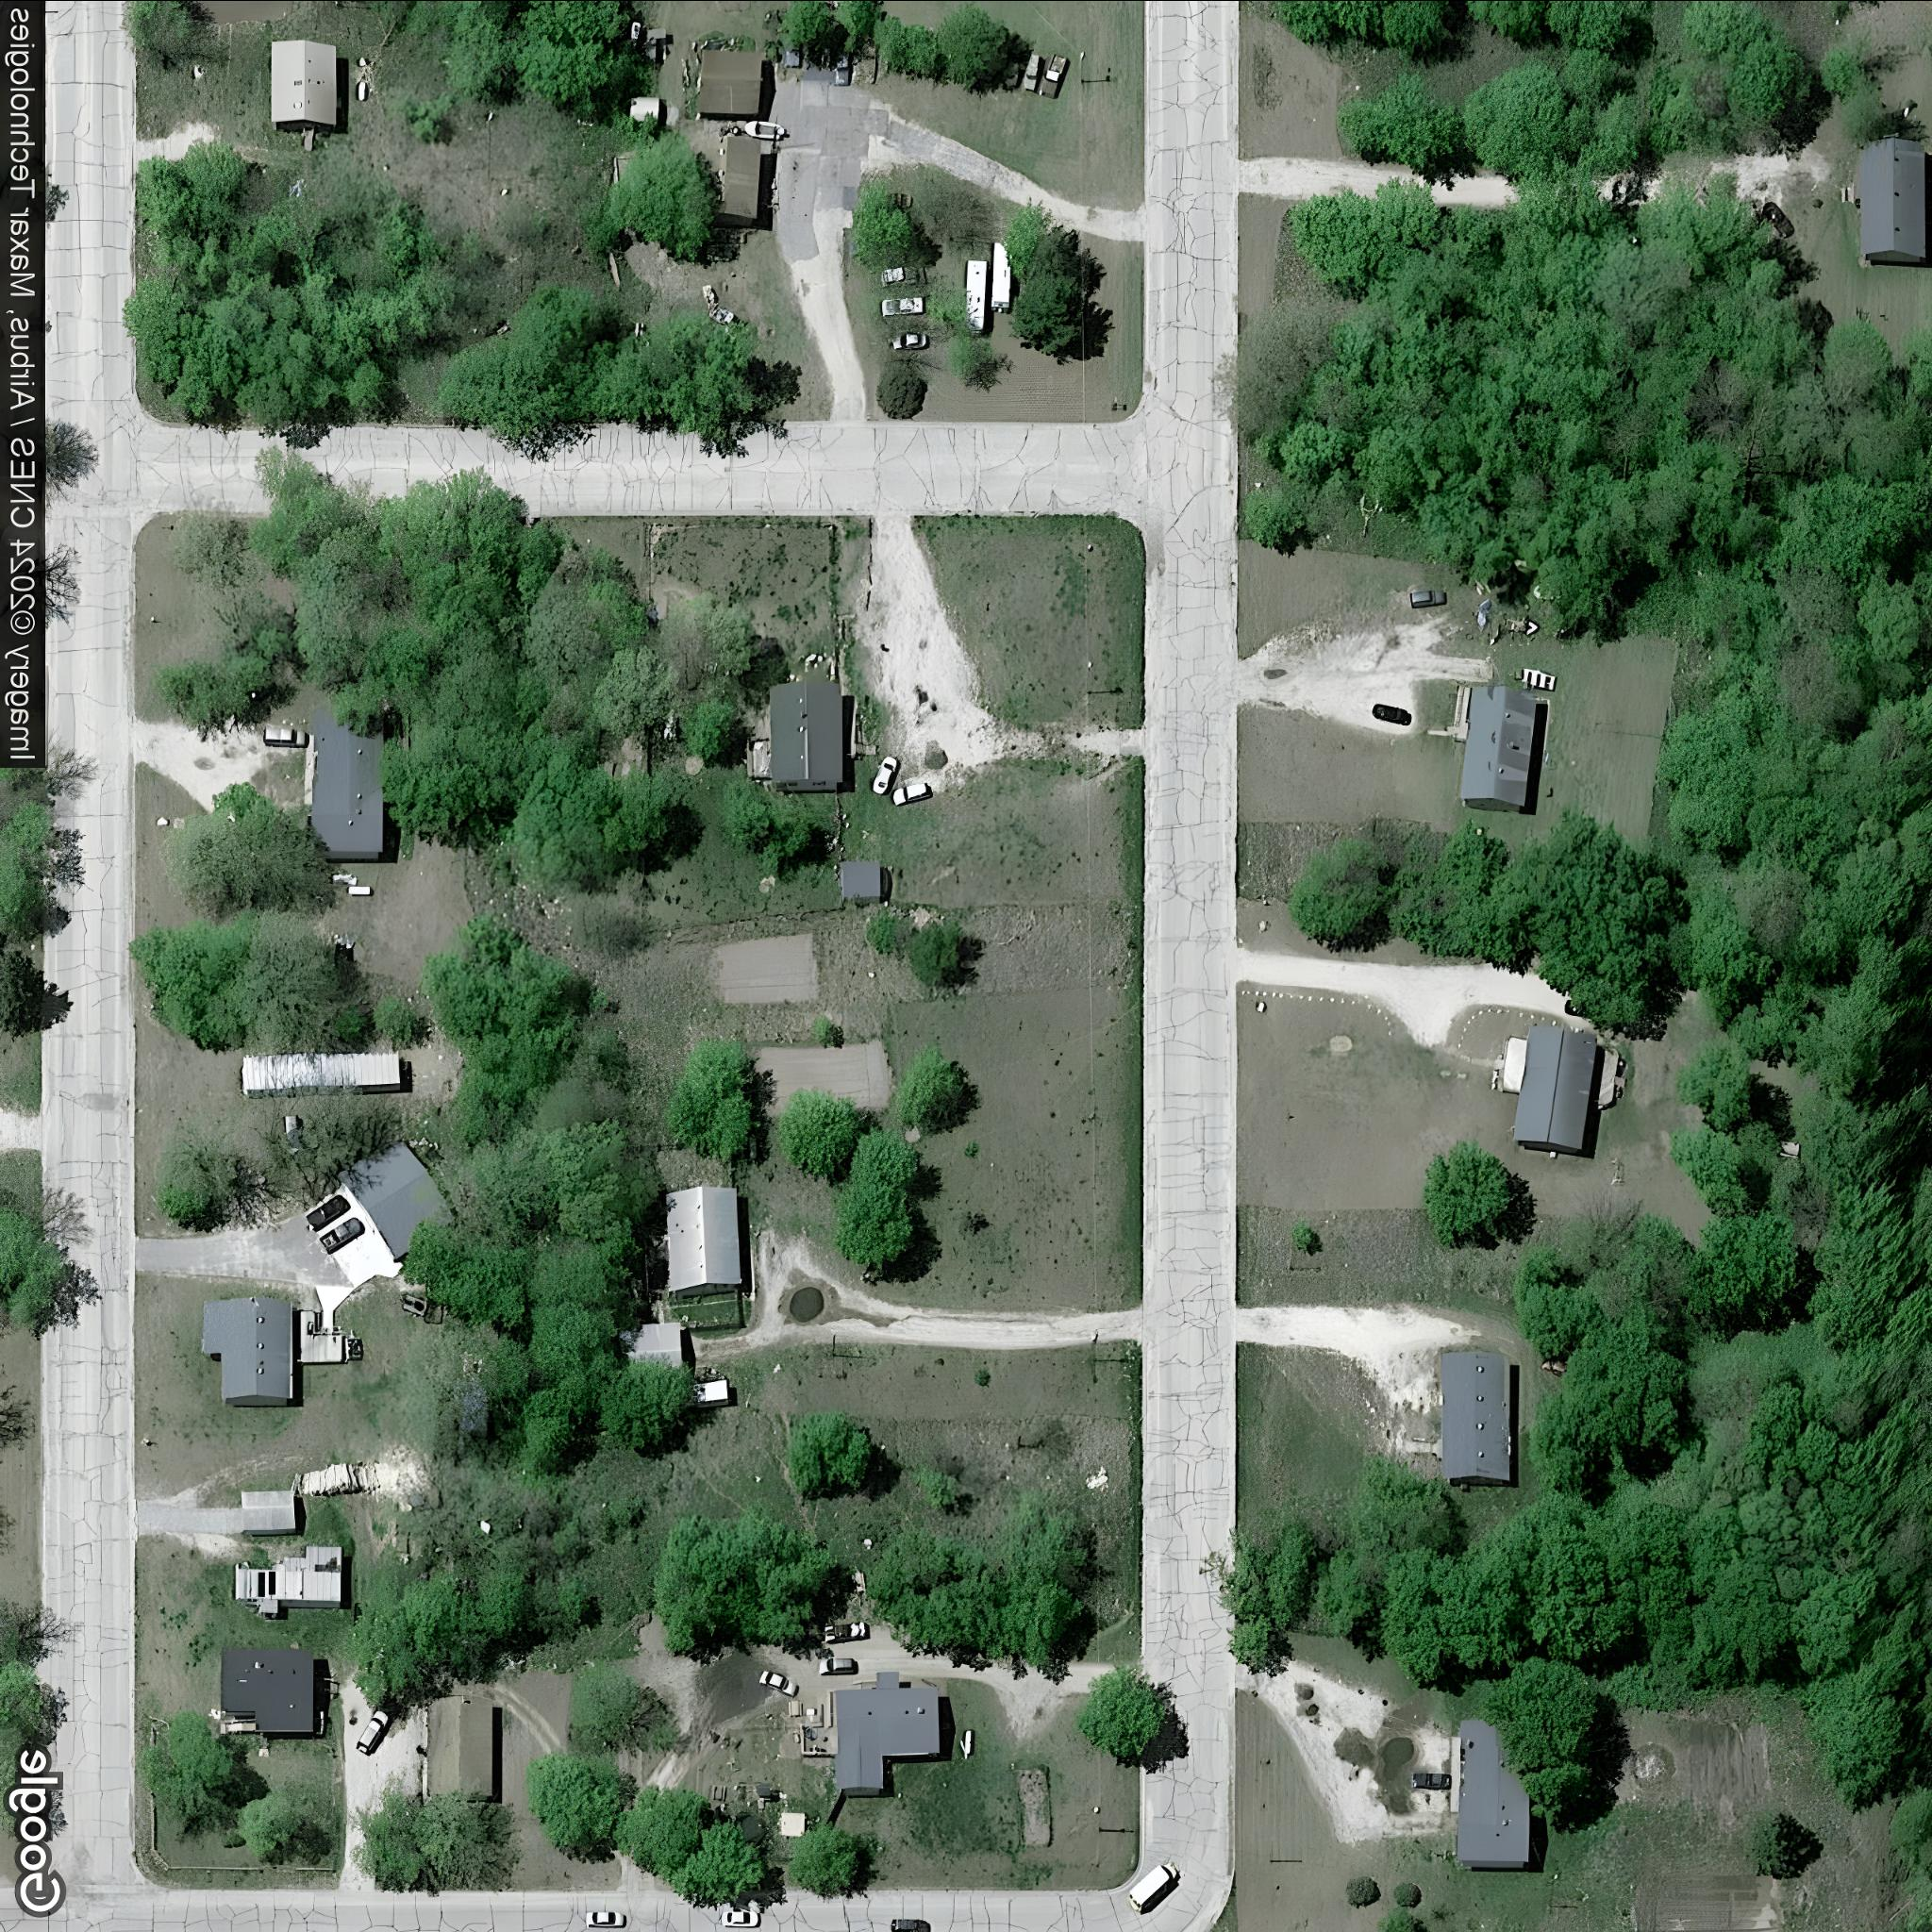Garage: (336, 1138, 453, 1258), (423, 1695, 492, 1798), (724, 134, 761, 219), (617, 1323, 681, 1369), (239, 1488, 297, 1532)
House: (832, 1670, 939, 1798), (1513, 1024, 1598, 1152), (311, 709, 384, 858), (1458, 1720, 1530, 1868), (202, 1293, 294, 1405), (1460, 683, 1539, 809), (1442, 1352, 1509, 1484), (665, 1184, 741, 1297), (768, 678, 844, 789), (218, 1645, 315, 1732), (1863, 134, 1925, 262), (235, 1546, 343, 1615), (269, 37, 338, 127), (695, 50, 764, 113)
Propane: (356, 81, 370, 103), (962, 1729, 975, 1752), (347, 885, 373, 895)
Trailer: (241, 1049, 402, 1093), (961, 257, 987, 334), (991, 242, 1012, 310)
